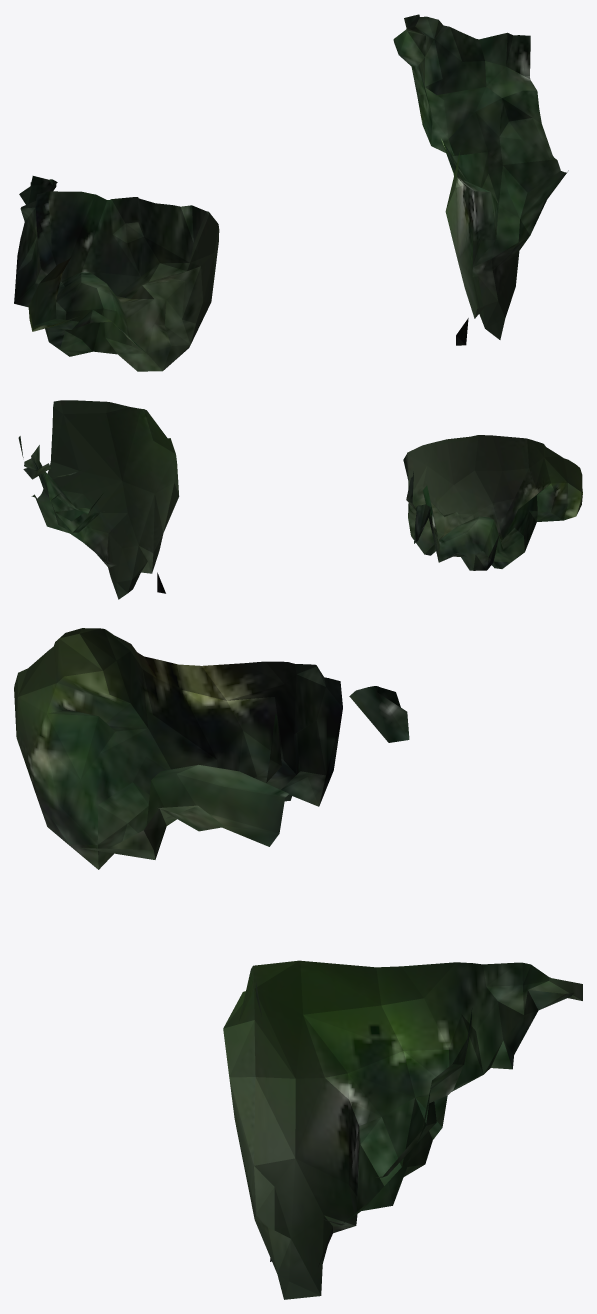
3 renders of one model, top to bottom at view 1: azimuth 30°, elevation 25°; view 2: azimuth 150°, elevation 25°; view 3: azimuth 270°, elevation 25°, orthographic. The views are drawn at different scales.
Bounding box in the file's own units: 24.54 × 8.92 × 14.16.
Materials: 1 (1 with a texture image).
